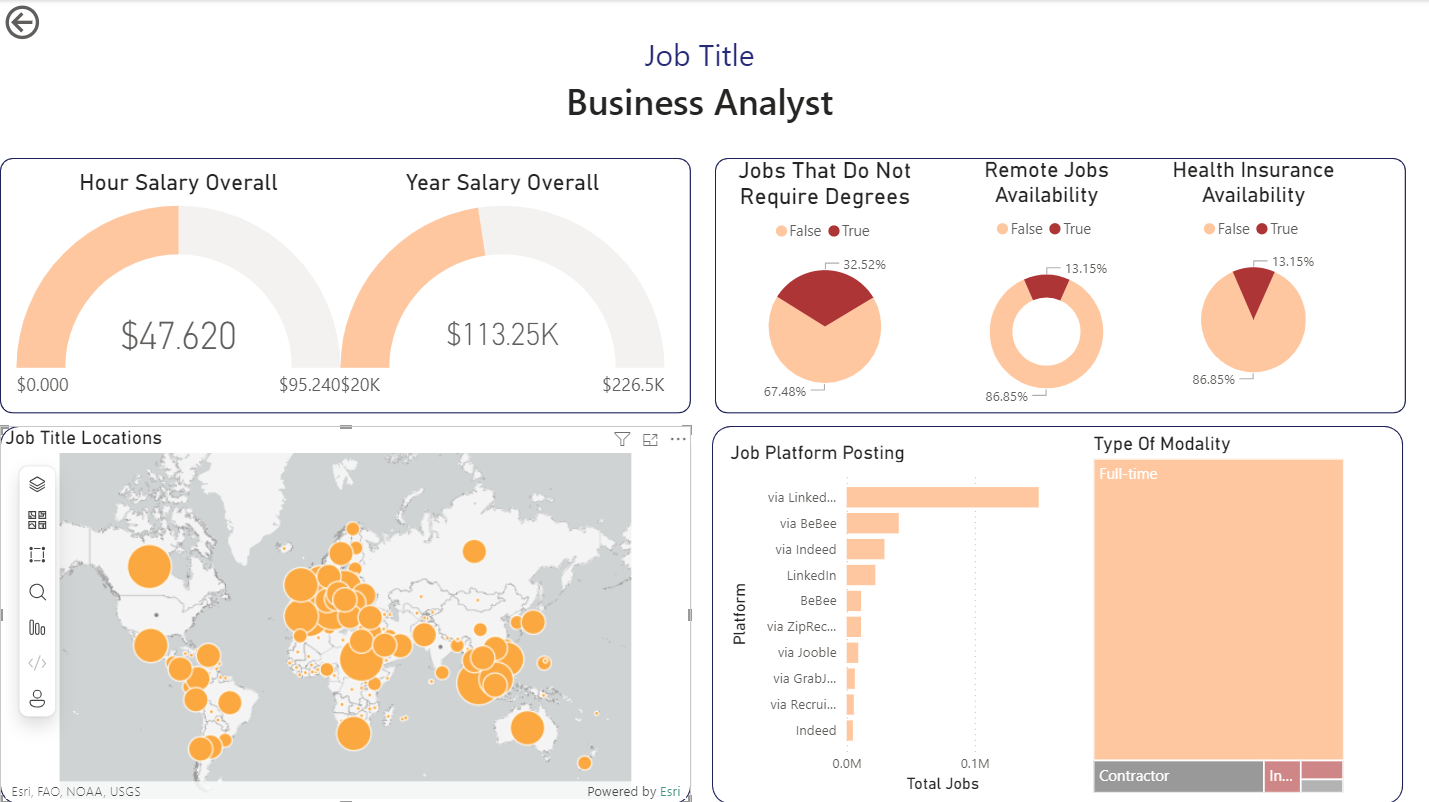

The dashboard page shown, as its layout file describes it:
{"tool":"powerbi","page":{"name":"Job Title Description","canvas":[1280,720],"ordinal":1},"visuals":[{"type":"group","id":"g1","title":"Group 1","box":[0,141.2,1258.8,578.8],"z":0},{"type":"shape","box":[0,141.2,618.8,228.8],"z":0,"group":"g1"},{"type":"cardVisual","fields":{"Data":["Min(job_postings_flat csv.job_title_short)"]},"box":[420,0,413,141],"z":1000},{"type":"shape","box":[640,141.2,618.8,228.8],"z":1000,"group":"g1"},{"type":"actionButton","box":[0,0,100,40],"z":2000},{"type":"shape","box":[0,381,619,339],"z":2000,"group":"g1"},{"type":"donutChart","title":"Remote Jobs Availability","fields":{"Y":["CountNonNull(job_postings_flat csv.job_work_from_home)"],"Category":["job_postings_flat csv.job_work_from_home"]},"box":[852,141,171,240],"z":3000},{"type":"shape","box":[638,381,619,339],"z":3000,"group":"g1"},{"type":"pieChart","title":"Jobs That Do Not Require Degrees","fields":{"Category":["job_postings_flat csv.job_no_degree_mention"],"Y":["CountNonNull(job_postings_flat csv.job_no_degree_mention)"]},"box":[645,141,188,229],"z":4000},{"type":"gauge","fields":{"Y":["Median(job_postings_flat csv.salary_hour_avg)"]},"box":[10,151.2,300,218.8],"z":5000},{"type":"gauge","fields":{"Y":["Median(job_postings_flat csv.salary_year_avg)"]},"box":[300,151.2,300,218.8],"z":6000},{"type":"esriVisual","title":"Job Title Locations","fields":{"Location":["job_postings_flat csv.job_country"],"Size":["CountNonNull(job_postings_flat csv.job_title_short)"]},"box":[0,381.2,618.8,338.8],"z":7000},{"type":"treemap","title":"Type Of Modality","fields":{"Group":["job_postings_flat csv.job_schedule_type"],"Values":["CountNonNull(job_postings_flat csv.job_schedule_type)"]},"box":[974,387,234,328],"z":8000},{"type":"clusteredBarChart","title":"Job Platform Posting","fields":{"Category":["job_postings_flat csv.job_via"],"Y":["CountNonNull(job_postings_flat csv.job_title_short)"]},"box":[649,395,300,320],"z":9000},{"type":"pieChart","title":"Health Insurance Availability","fields":{"Y":["CountNonNull(job_postings_flat csv.job_health_insurance)"],"Category":["job_postings_flat csv.job_work_from_home"]},"box":[1037,141,171,219],"z":10000}]}

Visuals, with their boxes in screenshot pixels (x1, y1, x2, y2), scaled from the page's 1280x720 canvas onto the 1429x802 screenshot:
"Group 1" group: rect(0, 157, 1405, 801)
shape: rect(0, 157, 691, 412)
cardVisual - Min(job_postings_flat csv.job_title_short): rect(469, 0, 930, 157)
shape: rect(714, 157, 1405, 412)
actionButton: rect(0, 0, 112, 45)
shape: rect(0, 424, 691, 801)
"Remote Jobs Availability" donutChart: rect(951, 157, 1142, 424)
shape: rect(712, 424, 1403, 801)
"Jobs That Do Not Require Degrees" pieChart: rect(720, 157, 930, 412)
gauge - Median(job_postings_flat csv.salary_hour_avg): rect(11, 168, 346, 412)
gauge - Median(job_postings_flat csv.salary_year_avg): rect(335, 168, 670, 412)
"Job Title Locations" esriVisual: rect(0, 425, 691, 801)
"Type Of Modality" treemap: rect(1087, 431, 1349, 796)
"Job Platform Posting" clusteredBarChart: rect(725, 440, 1059, 796)
"Health Insurance Availability" pieChart: rect(1158, 157, 1349, 401)
